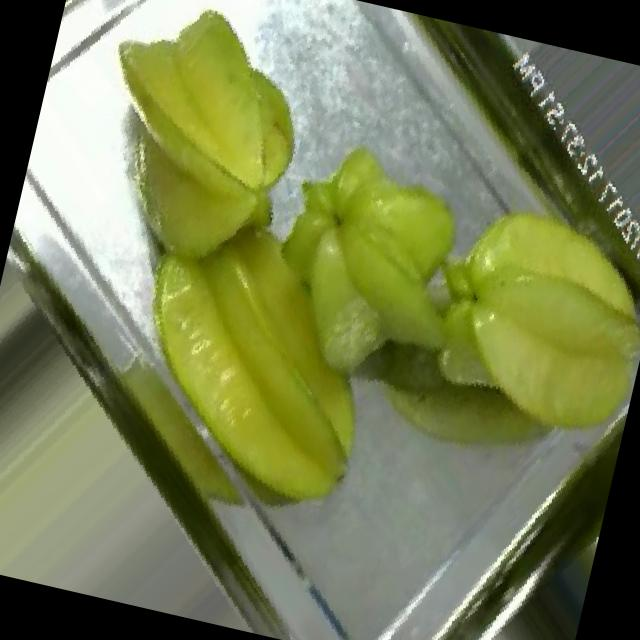fruit: (29, 42, 500, 580), (30, 0, 371, 345), (366, 125, 640, 493)
